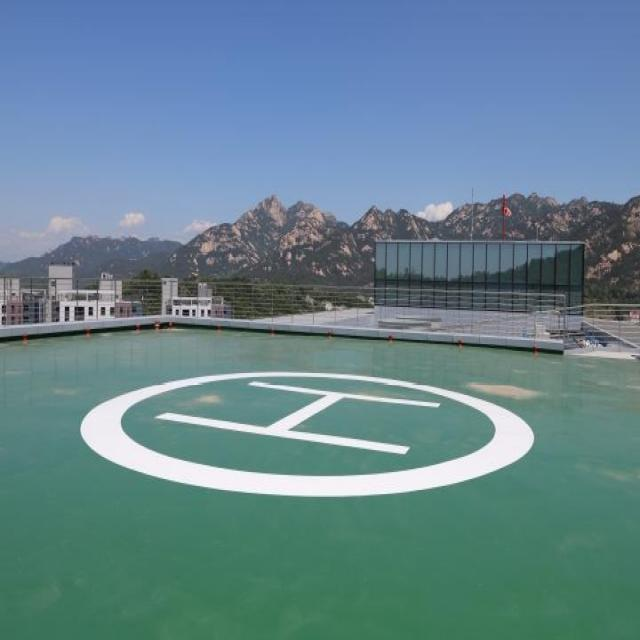helipad: (74, 363, 536, 504)
